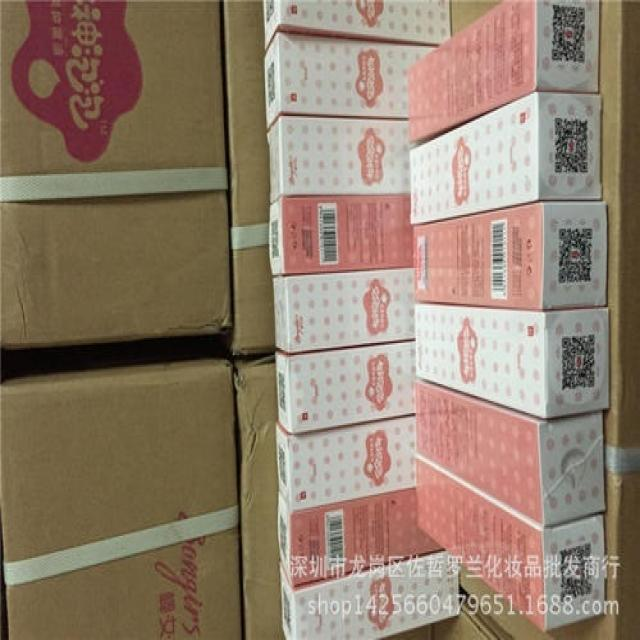box: (461, 0, 640, 640), (0, 0, 232, 350), (0, 357, 241, 640), (416, 456, 605, 631), (415, 379, 605, 529), (408, 0, 600, 143), (200, 0, 275, 355), (408, 94, 603, 225), (413, 304, 611, 420), (412, 203, 608, 309), (276, 488, 444, 589), (264, 34, 436, 130), (280, 550, 460, 640), (232, 353, 283, 640), (276, 416, 416, 512), (275, 341, 415, 435), (266, 116, 408, 203), (273, 270, 413, 353), (269, 195, 413, 275), (264, 0, 452, 53)
